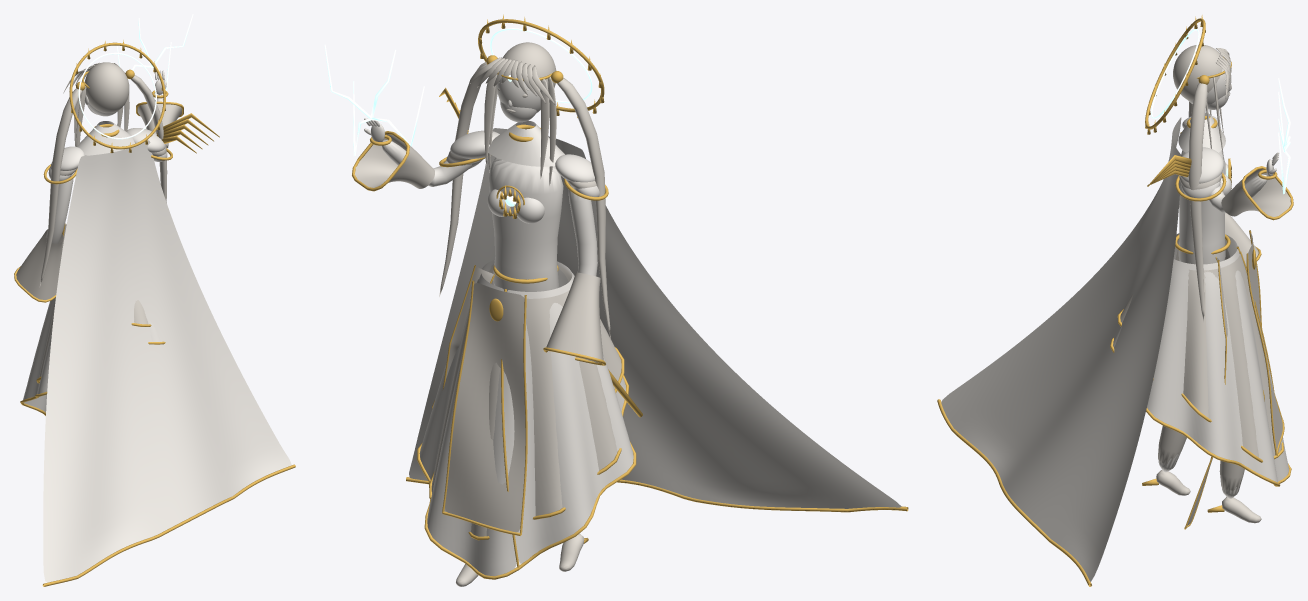
File: tempest.glb
3 views of the same model, side by side, from view 1: azimuth 30°, elevation 25°; view 2: azimuth 150°, elevation 25°; view 3: azimuth 270°, elevation 25° (orthographic). The views are drawn at different scales.
Visible parts, largest first — view 1: marble, marble2, gold, glow; view 2: marble, marble2, gold, glow; view 3: marble, marble2, gold, glow.
Boxes of the visible parts, x1,y1,x2,y2 form: marble: (23,70,291,582); marble2: (16,62,181,377); gold: (14,40,295,586); glow: (78,14,193,139); marble: (364,72,901,576); marble2: (354,42,621,586); gold: (352,14,908,579); glow: (324,28,592,206); marble: (941,69,1288,581); marble2: (1120,44,1290,525); gold: (937,15,1293,586); glow: (1151,29,1290,194).
Size of the model in its own units: 1.54 by 1.97 by 1.31.
